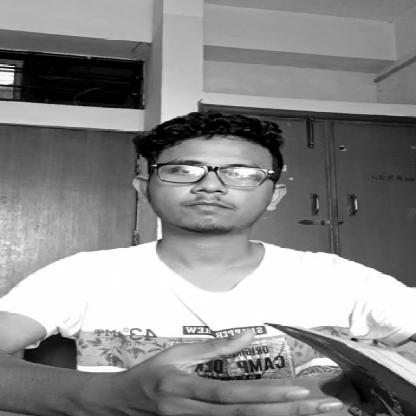Normal: (148, 132, 286, 232)
